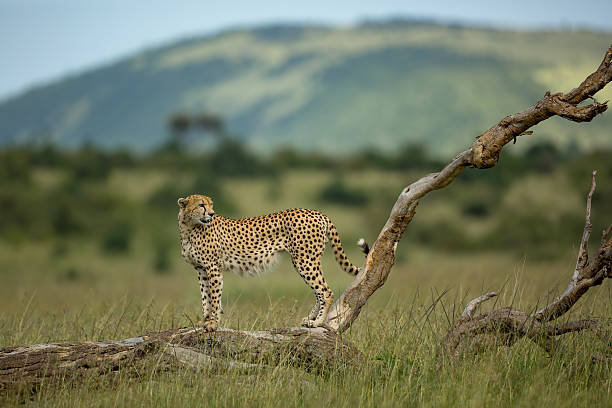cheetah: (173, 188, 229, 234)
